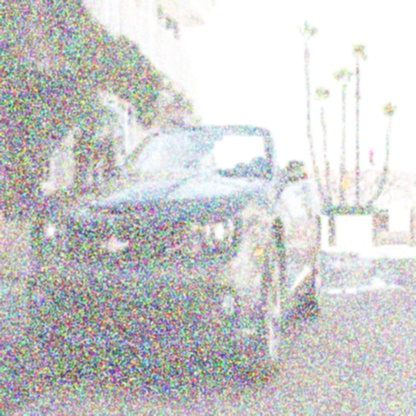Vehicle: (26, 129, 323, 382)
